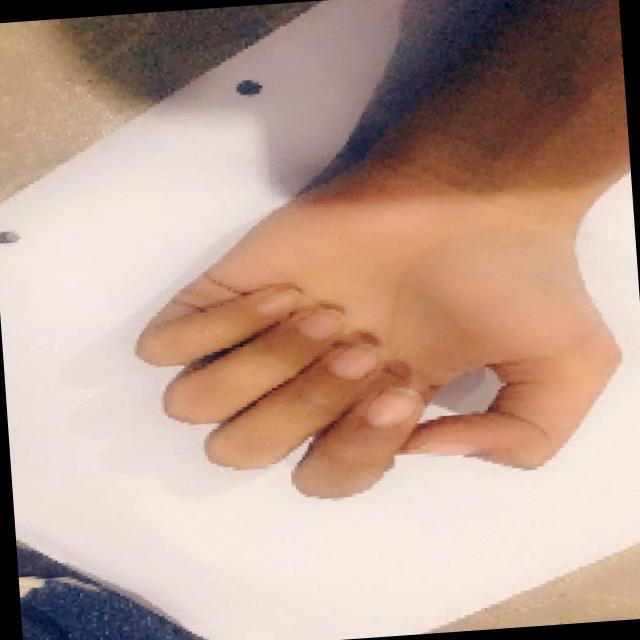Nail: (365, 385, 421, 426), (331, 344, 385, 377), (295, 306, 346, 339), (257, 287, 300, 315), (419, 442, 476, 454)
